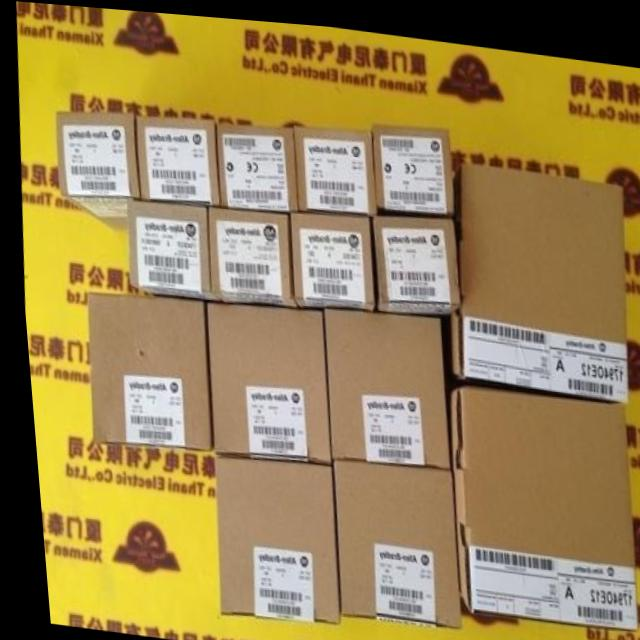box: (444, 367, 628, 622), (444, 157, 623, 395), (324, 453, 451, 621), (206, 451, 329, 620), (200, 299, 325, 461), (318, 305, 445, 464), (83, 293, 207, 446), (55, 110, 138, 228), (124, 197, 218, 301), (369, 203, 457, 309), (205, 202, 294, 304), (286, 206, 372, 307), (134, 113, 217, 202), (292, 121, 373, 210), (370, 117, 452, 204), (214, 120, 294, 206)
